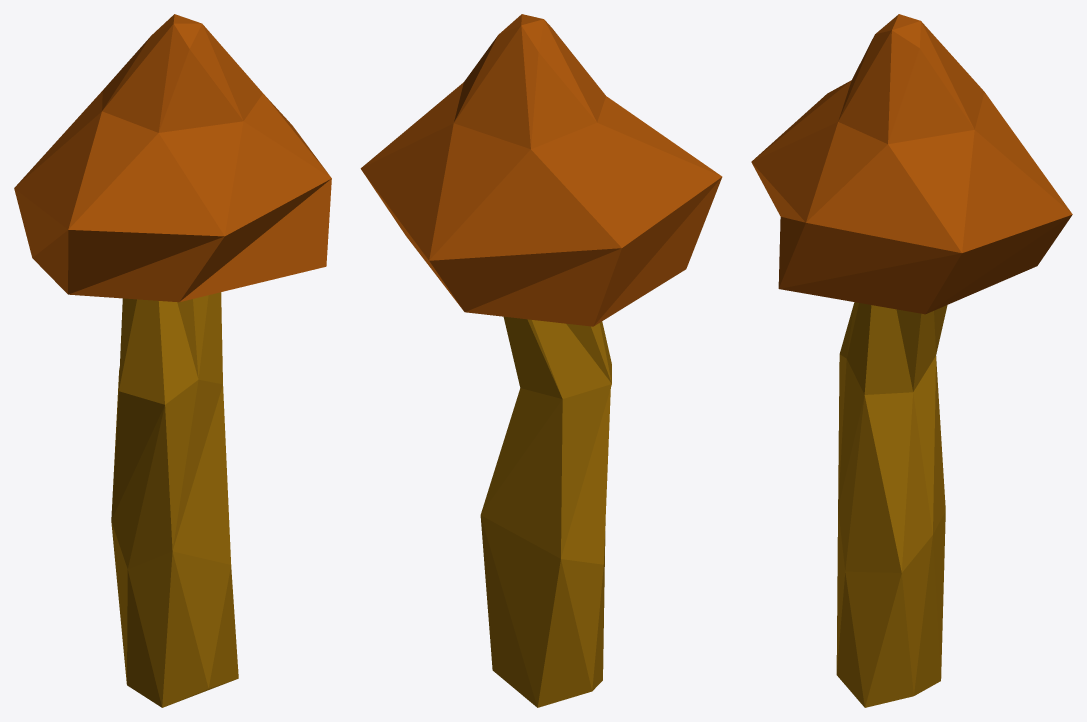
File: SENE_NEEDAMA-004.FBX
The picture shows the model from 3 angles, left to right: view 1: azimuth 30°, elevation 25°; view 2: azimuth 150°, elevation 25°; view 3: azimuth 270°, elevation 25°; orthographic projection. The views are drawn at different scales.
Visible parts, largest first — view 1: SENE_NEEDAMA-004; view 2: SENE_NEEDAMA-004; view 3: SENE_NEEDAMA-004.
Boxes of the visible parts, left/top/right/bottom form: SENE_NEEDAMA-004: left=14, top=14, right=331, bottom=707; SENE_NEEDAMA-004: left=360, top=14, right=722, bottom=707; SENE_NEEDAMA-004: left=751, top=14, right=1072, bottom=707.
Bounding box in the file's own units: 303 × 657 × 284.
